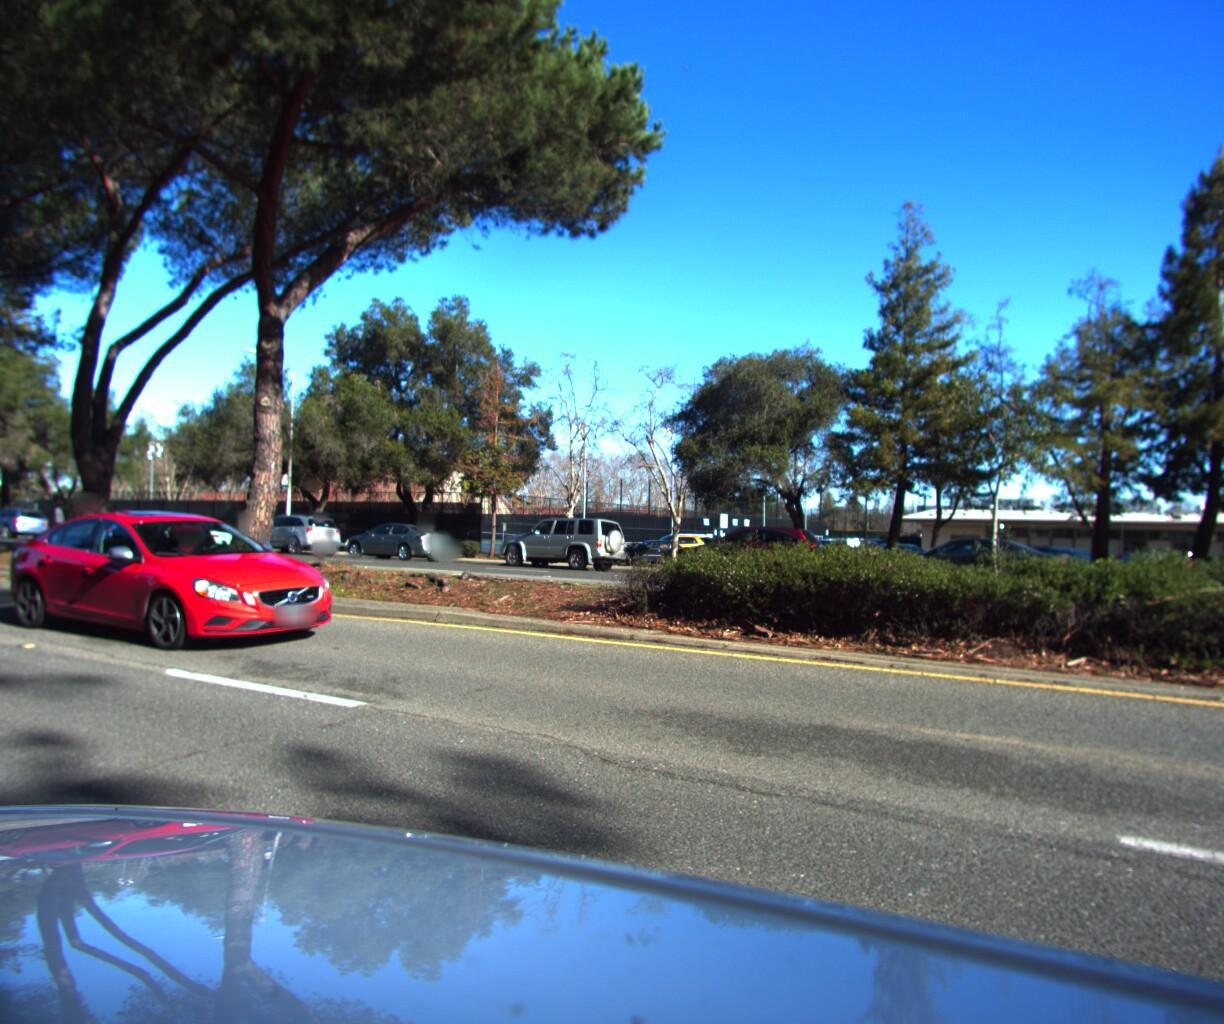car: (0, 505, 371, 657), (854, 532, 1072, 602), (667, 523, 832, 587), (485, 515, 635, 578), (331, 522, 456, 568), (232, 514, 344, 562), (0, 510, 52, 547)
